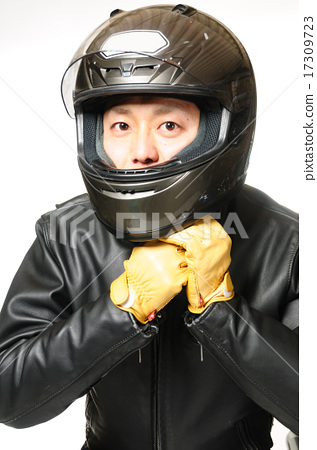helmet: (62, 8, 263, 239)
